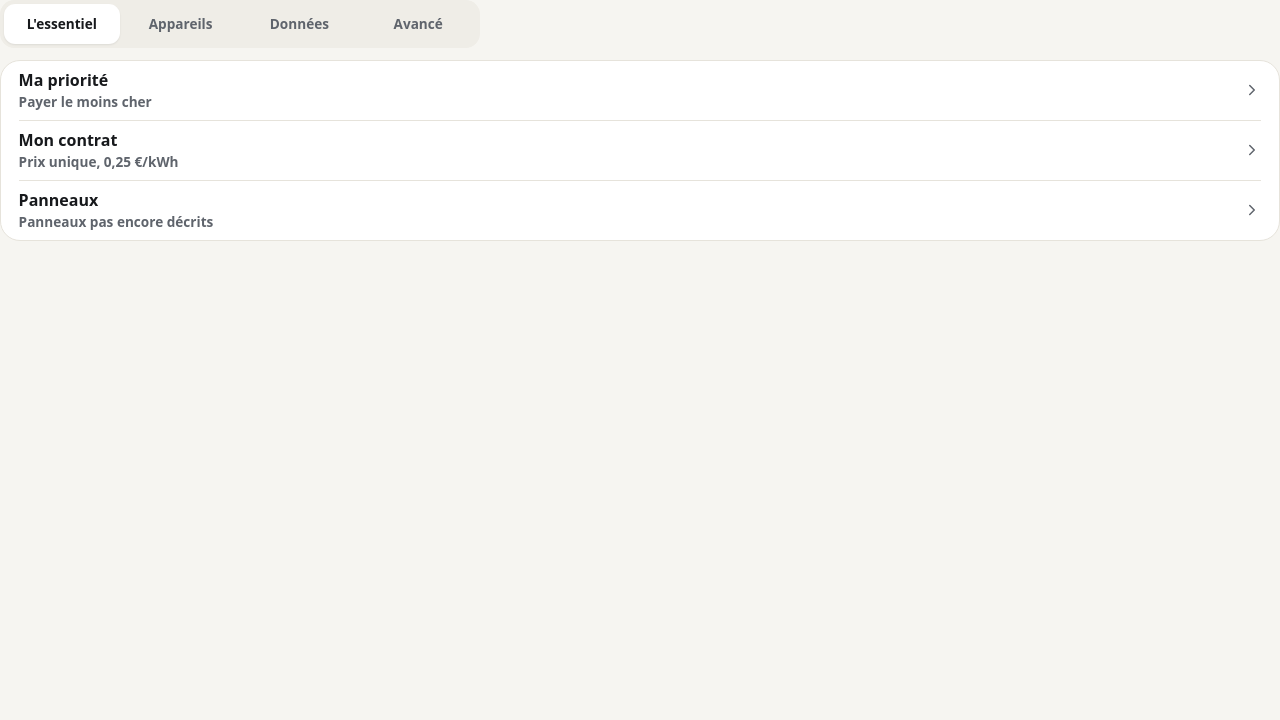
Test: réglages de Ma maison › propose un tarif d'après le tableau Énergie
Click the tab "L'essentiel" at (62, 24), box [4, 4, 120, 44]
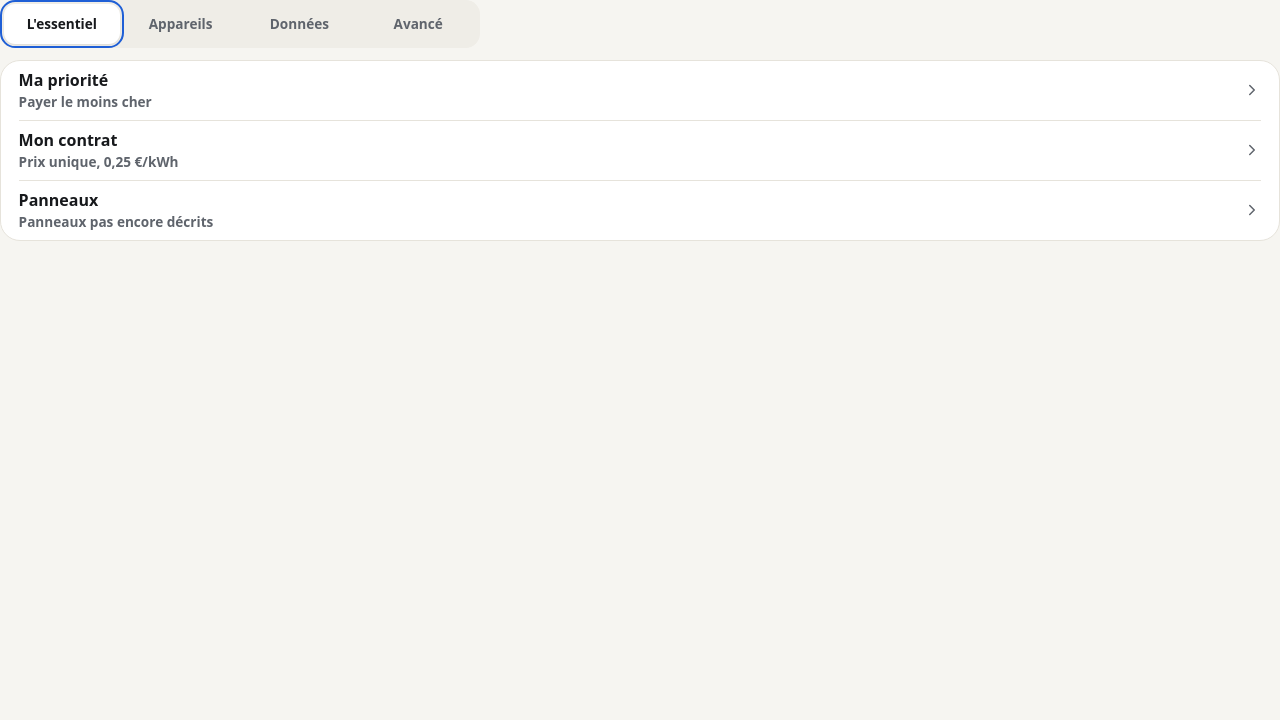
Click the button "Mon contrat Prix unique, 0,25 €/kWh" at (68, 140), box [19, 121, 1261, 181]
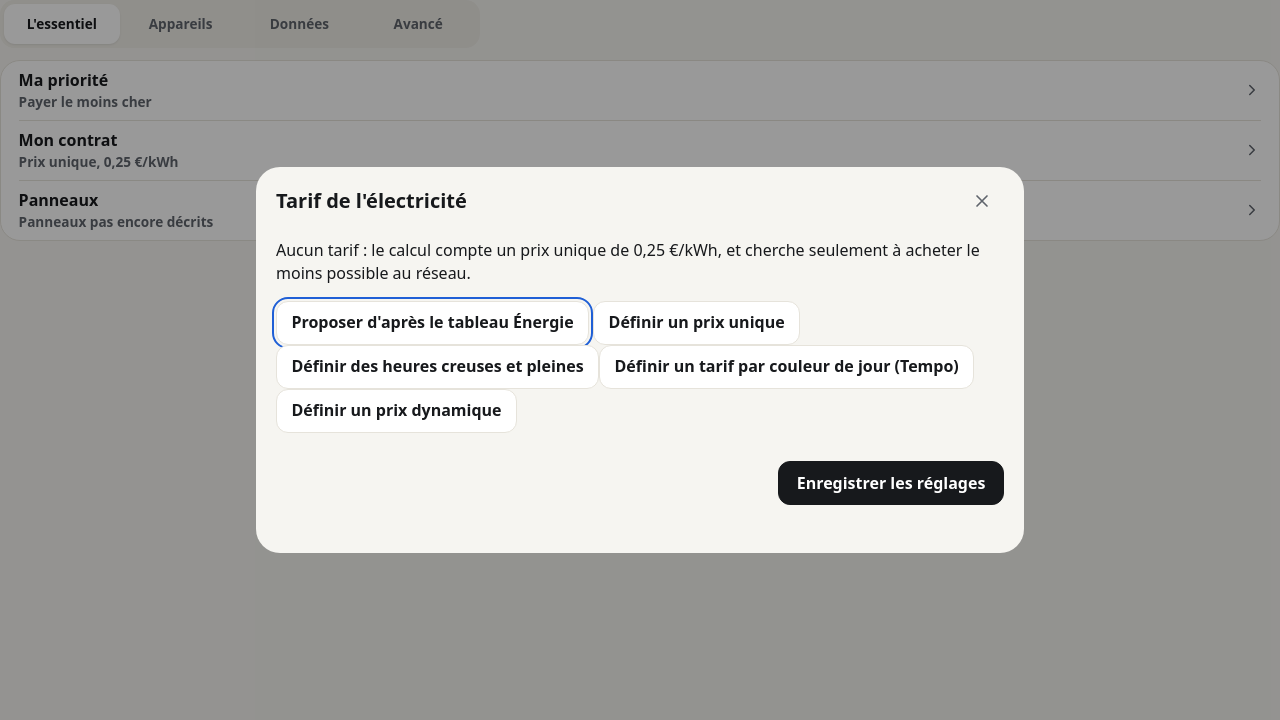
Click the button "Proposer d'après le tableau Énergie" at (432, 323), box [276, 301, 589, 345]
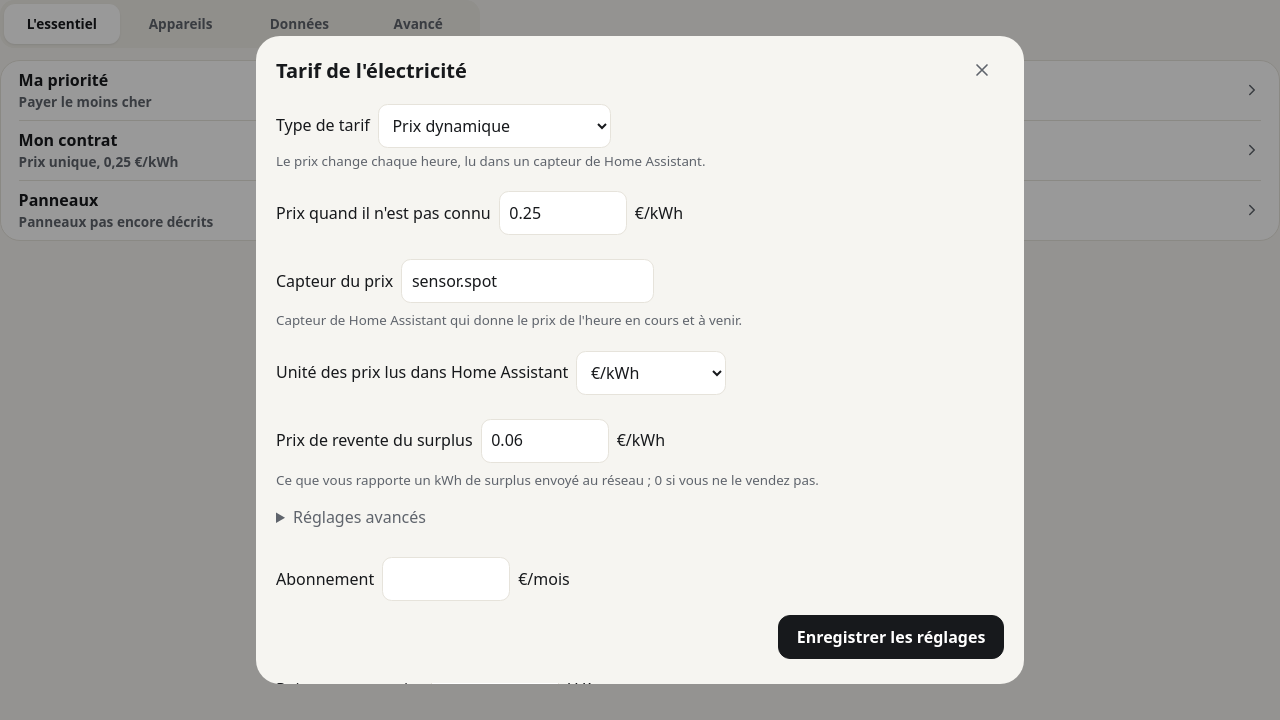
Expected: the field labelled "Capteur du prix" holds "sensor.spot", [401, 259, 654, 303]
Expected: the dropdown labelled "Type de tarif" shows "Prix dynamique", [378, 104, 611, 148]
